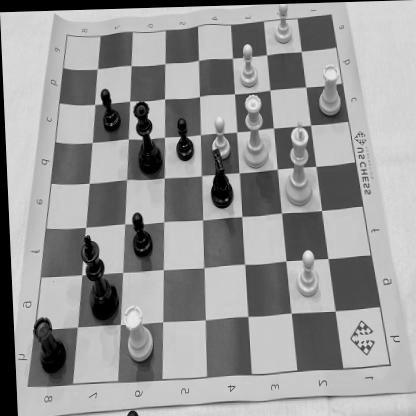black-king: (76, 226, 119, 324)
black-knight: (202, 146, 238, 212)
black-pawn: (127, 206, 152, 258), (172, 113, 196, 163), (98, 82, 121, 130)
black-queen: (130, 96, 165, 174)
black-rook: (31, 312, 65, 374)
white-king: (279, 115, 314, 209)
white-pawn: (291, 244, 321, 302), (208, 112, 235, 162), (236, 39, 262, 88), (272, 2, 297, 48)
white-queen: (238, 89, 271, 173)
white-rook: (118, 298, 153, 368), (314, 61, 345, 120)
